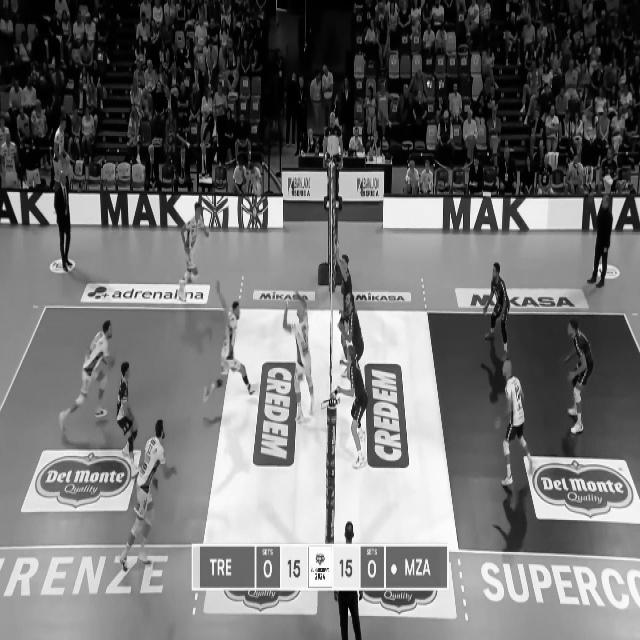volleyball court: (0, 303, 639, 557), (427, 309, 639, 556)
